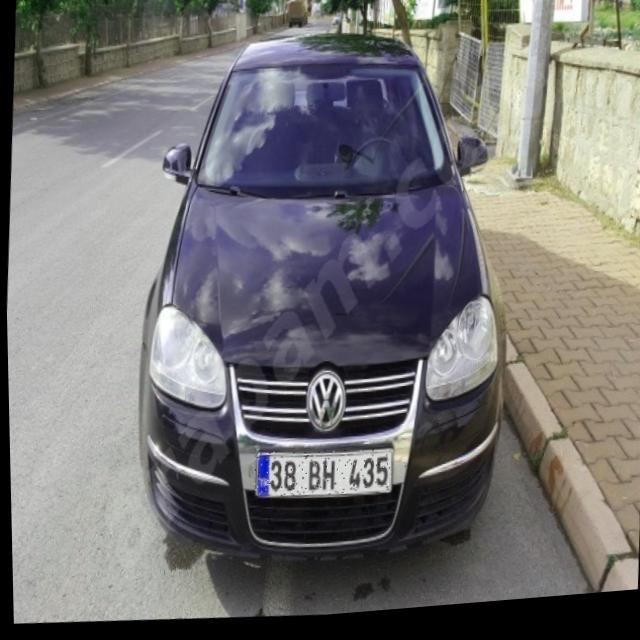license_plate: (251, 449, 391, 508)
